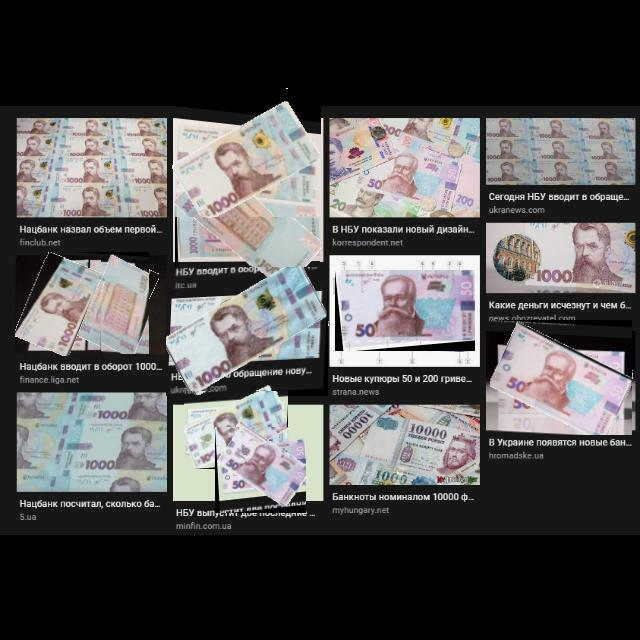1000uah: (166, 267, 327, 397), (177, 154, 321, 294), (174, 99, 322, 218), (15, 258, 102, 357), (184, 391, 288, 470), (80, 255, 150, 355)
50uah: (490, 322, 633, 436), (341, 270, 476, 343), (217, 427, 307, 508)
